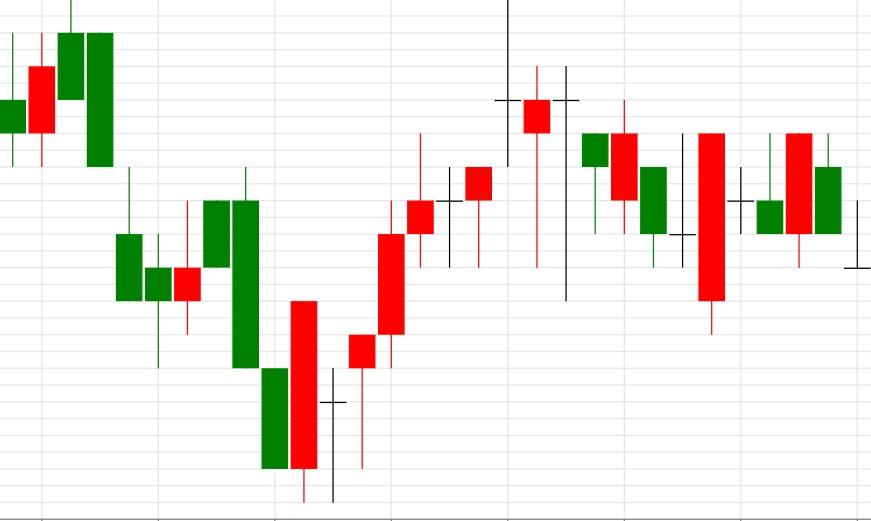bullish_engulfing_rise: (203, 165, 319, 503)
